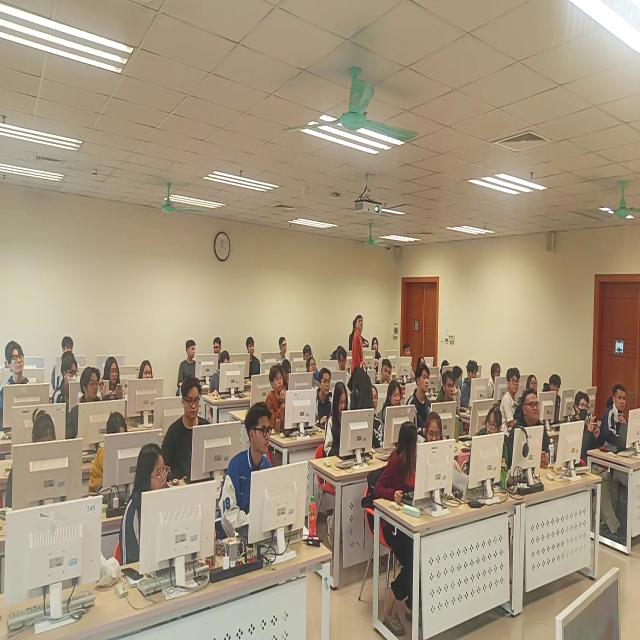raise_head: (124, 447, 197, 582), (231, 407, 290, 544), (177, 377, 217, 481), (1, 345, 45, 421), (521, 392, 554, 482), (75, 370, 117, 429), (607, 383, 637, 455), (269, 365, 298, 435), (409, 366, 437, 431), (137, 354, 164, 413), (439, 369, 461, 433), (312, 372, 336, 426), (503, 370, 524, 425), (245, 335, 262, 376), (60, 335, 82, 361), (304, 354, 321, 385), (278, 335, 293, 367), (371, 336, 383, 368), (403, 340, 414, 367)
stand: (350, 314, 370, 385)
using_computer: (14, 419, 72, 516), (101, 414, 141, 498), (325, 383, 365, 463), (53, 359, 91, 411), (209, 353, 247, 404), (385, 379, 411, 440), (176, 335, 210, 381), (464, 358, 486, 409), (337, 346, 353, 389), (488, 362, 506, 399)
using_phone: (573, 395, 602, 466), (102, 353, 129, 412)
